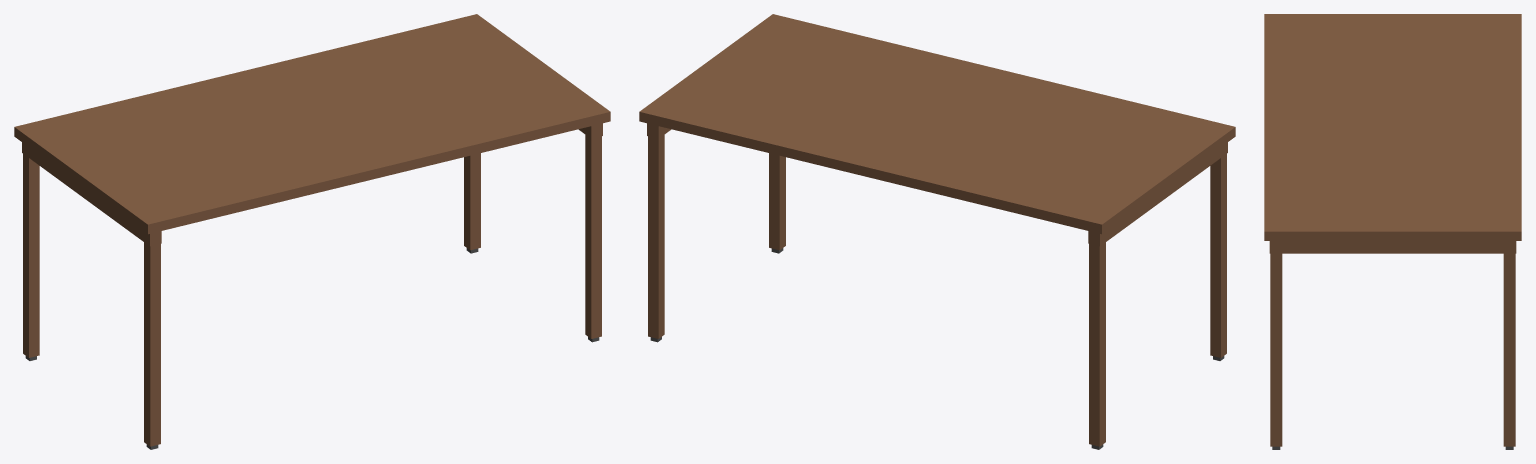
Rendered from Desk.fbx.
3 renders of one model, left to right at view 1: azimuth 30°, elevation 25°; view 2: azimuth 150°, elevation 25°; view 3: azimuth 270°, elevation 25°, orthographic. The views are drawn at different scales.
Visible parts, largest first — view 1: desk1; view 2: desk1; view 3: desk1.
Part boxes in pixels (x1,y1,x2,y2): desk1: (14, 14, 610, 449); desk1: (639, 14, 1235, 449); desk1: (1264, 14, 1521, 449).
Bounding box in the file's own units: 152 × 72.4 × 76.2.
